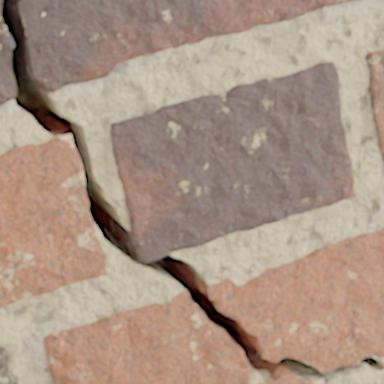brick: (110, 62, 353, 261), (0, 135, 106, 307), (364, 50, 383, 173), (0, 346, 12, 383)
broken_brick: (19, 0, 362, 93), (207, 227, 383, 370), (44, 291, 311, 383), (0, 16, 16, 106), (0, 0, 2, 14)
crack: (0, 0, 383, 383), (155, 300, 168, 309)
